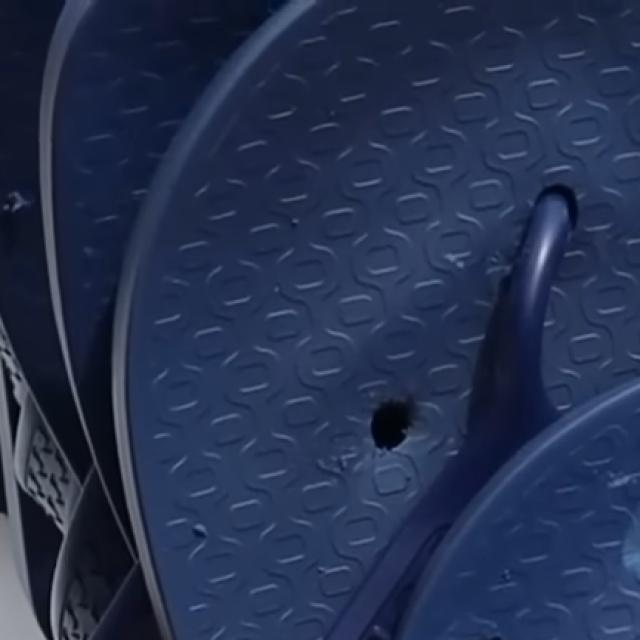bullets: (361, 393, 425, 461)
